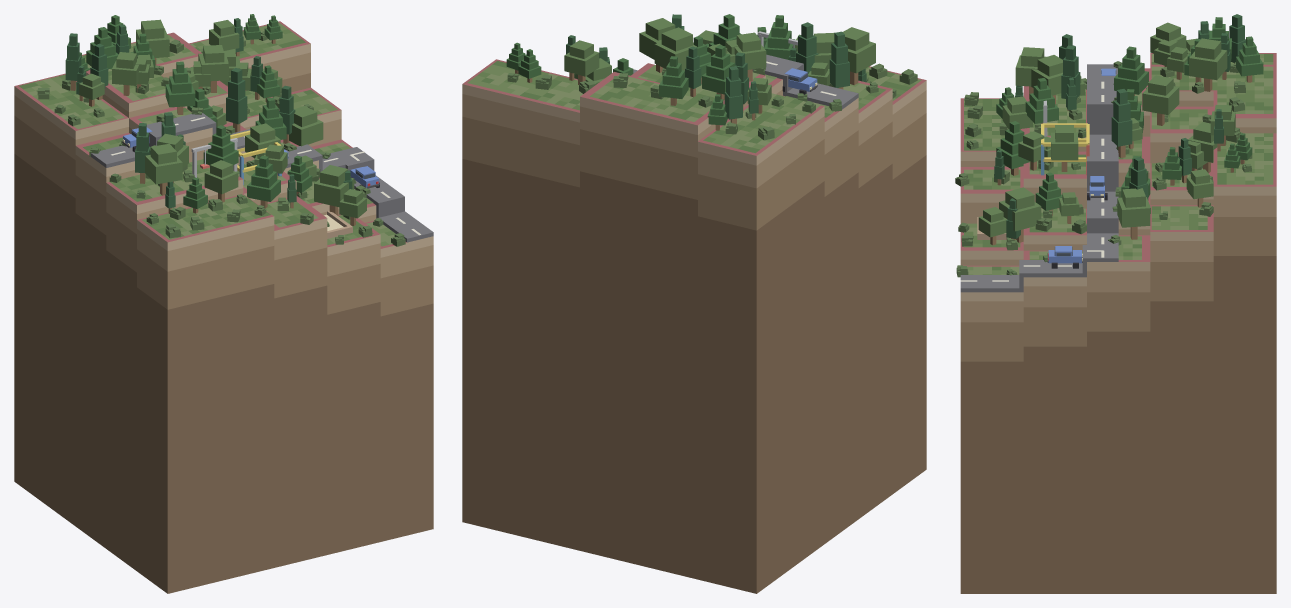
The model's file is block_20_engineered_15.glb.
3 views of the same model, side by side, from view 1: azimuth 30°, elevation 25°; view 2: azimuth 150°, elevation 25°; view 3: azimuth 270°, elevation 25° (orthographic). The views are drawn at different scales.
Visible parts, largest first — view 1: Patch_UpperRight_b20_ES, Green_UpperRight_b20_ES, Roads_UpperRight_b20_ES, PlayEquip_UpperRight_b20_ES, URTree_20_37_ES, URTree_20_16_ES, URTree_20_13_ES, URTree_20_5_ES, URTree_20_0_ES, URTree_20_18_ES, URTree_20_3_ES, URTree_20_35_ES (+16 smaller); view 2: Patch_UpperRight_b20_ES, Green_UpperRight_b20_ES, Roads_UpperRight_b20_ES, URTree_20_37_ES, URTree_20_46_ES, URTree_20_25_ES, URTree_20_41_ES, URTree_20_34_ES, URTree_20_49_ES, URTree_20_50_ES, URTree_20_36_ES, URTree_20_45_ES (+3 smaller); view 3: Patch_UpperRight_b20_ES, Green_UpperRight_b20_ES, Roads_UpperRight_b20_ES, URTree_20_46_ES, URTree_20_3_ES, URTree_20_18_ES, URTree_20_16_ES, URTree_20_0_ES, URTree_20_5_ES, PlayEquip_UpperRight_b20_ES, URTree_20_15_ES, URTree_20_36_ES (+20 smaller).
Boxes of the visible parts, <box> form: Patch_UpperRight_b20_ES: <box>14,21,433,593</box>; Green_UpperRight_b20_ES: <box>19,22,395,246</box>; Roads_UpperRight_b20_ES: <box>91,113,433,242</box>; PlayEquip_UpperRight_b20_ES: <box>191,130,352,238</box>; URTree_20_37_ES: <box>145,143,182,195</box>; URTree_20_16_ES: <box>314,165,354,215</box>; URTree_20_13_ES: <box>247,155,280,208</box>; URTree_20_5_ES: <box>165,61,195,114</box>; URTree_20_0_ES: <box>226,68,247,132</box>; URTree_20_18_ES: <box>289,105,323,146</box>; URTree_20_3_ES: <box>198,45,228,92</box>; URTree_20_35_ES: <box>204,160,238,202</box>; Patch_UpperRight_b20_ES: <box>462,59,926,593</box>; Green_UpperRight_b20_ES: <box>467,61,921,153</box>; Roads_UpperRight_b20_ES: <box>633,54,858,109</box>; URTree_20_37_ES: <box>843,27,875,85</box>; URTree_20_46_ES: <box>654,27,696,70</box>; URTree_20_25_ES: <box>564,40,599,84</box>; URTree_20_41_ES: <box>702,45,734,99</box>; URTree_20_34_ES: <box>829,31,849,89</box>; URTree_20_49_ES: <box>659,56,688,105</box>; URTree_20_50_ES: <box>734,32,766,81</box>; URTree_20_36_ES: <box>764,15,795,59</box>; URTree_20_45_ES: <box>724,66,742,124</box>; Patch_UpperRight_b20_ES: <box>960,53,1276,593</box>; Green_UpperRight_b20_ES: <box>964,54,1273,274</box>; Roads_UpperRight_b20_ES: <box>960,64,1118,292</box>; URTree_20_46_ES: <box>1189,38,1227,91</box>; URTree_20_3_ES: <box>1142,75,1179,125</box>; URTree_20_18_ES: <box>1117,188,1150,239</box>; URTree_20_16_ES: <box>999,187,1041,242</box>; URTree_20_0_ES: <box>1111,89,1132,157</box>; URTree_20_5_ES: <box>1114,46,1148,95</box>; PlayEquip_UpperRight_b20_ES: <box>977,100,1089,239</box>; URTree_20_15_ES: <box>1051,125,1078,171</box>; URTree_20_36_ES: <box>1025,78,1058,123</box>.
Bounding box in the file's own units: 9.53 × 15.65 × 9.66.
